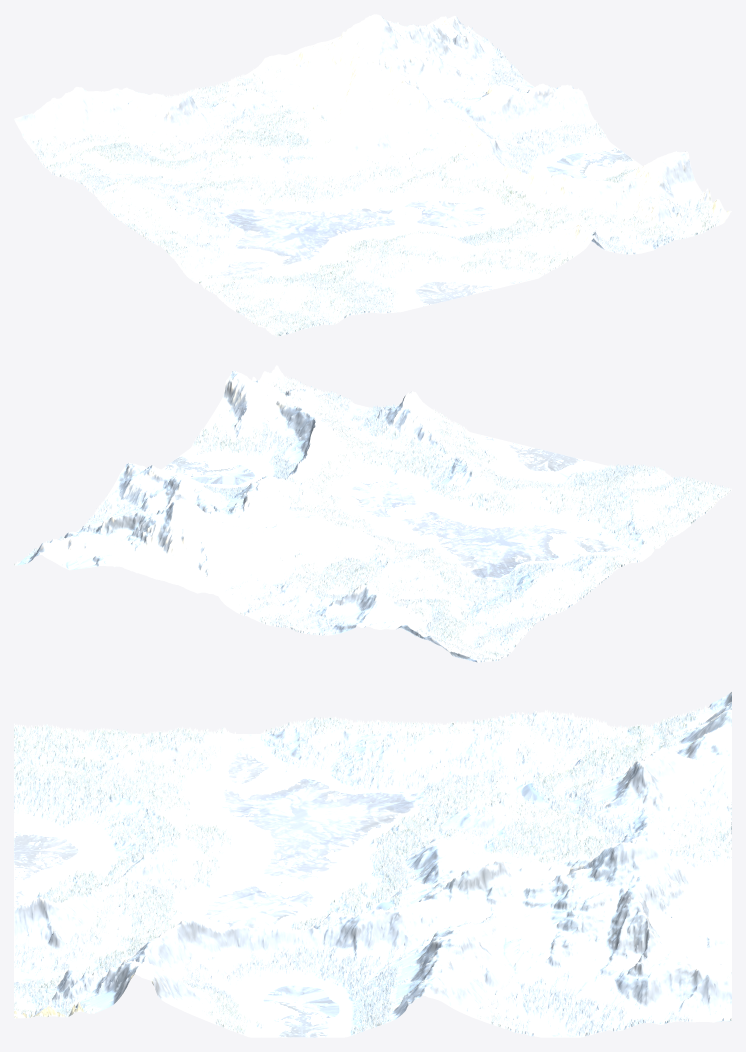
Rendered from level2terrain.glb.
3 renders of one model, top to bottom at view 1: azimuth 30°, elevation 25°; view 2: azimuth 150°, elevation 25°; view 3: azimuth 270°, elevation 25°, orthographic. The views are drawn at different scales.
Visible parts, largest first — view 1: Winter_Lake_Landscape_Winter_Lake_Landscape_0 (×4); view 2: Winter_Lake_Landscape_Winter_Lake_Landscape_0 (×4); view 3: Winter_Lake_Landscape_Winter_Lake_Landscape_0 (×4).
Part boxes in pixels (x1,y1,x2,y2): Winter_Lake_Landscape_Winter_Lake_Landscape_0 (×4): [14, 14, 731, 336]; Winter_Lake_Landscape_Winter_Lake_Landscape_0 (×4): [14, 365, 731, 662]; Winter_Lake_Landscape_Winter_Lake_Landscape_0 (×4): [14, 692, 731, 1037].
Bounding box in the file's own units: 101 × 17.19 × 101.
